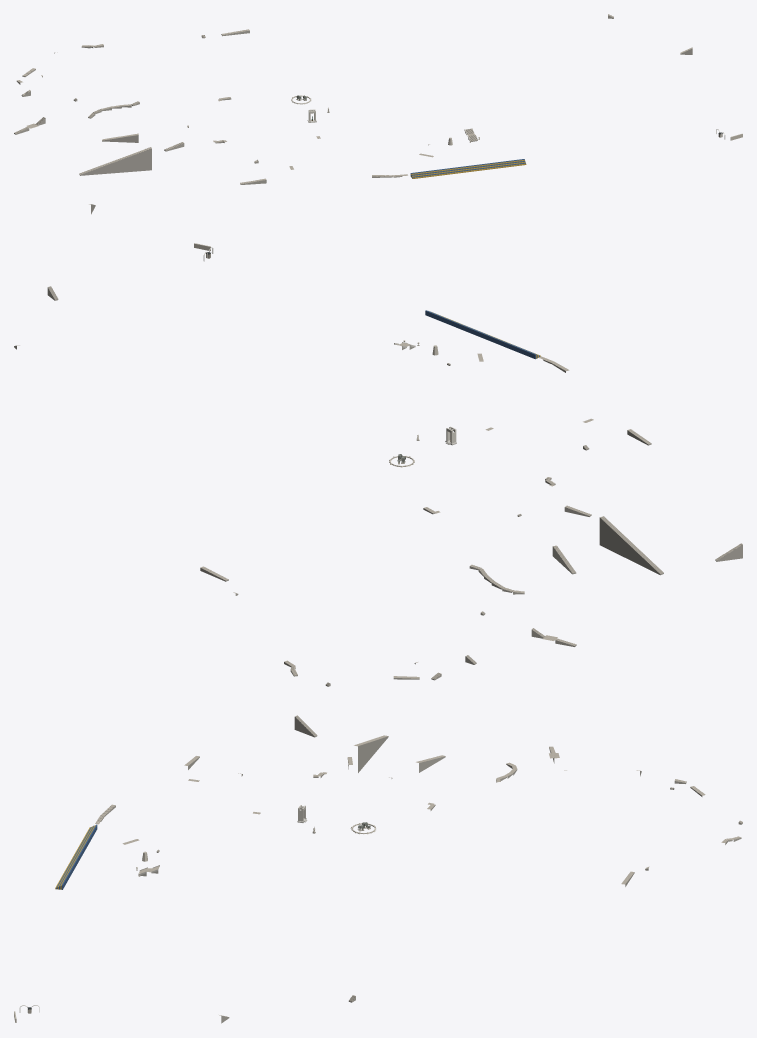
The picture shows the model from 3 angles, top to bottom: view 1: azimuth 30°, elevation 25°; view 2: azimuth 150°, elevation 25°; view 3: azimuth 270°, elevation 25°; orthographic projection. The views are drawn at different scales.
Visible parts, largest first — view 1: jeonggakwon-stair-upper__graniteRiser, dongguk-graniteLight, daeundong-stand__seatYellow, daeundong-stand__seatBlue; view 2: jeonggakwon-stair-upper__graniteRiser, dongguk-graniteLight; view 3: jeonggakwon-stair-upper__graniteRiser, dongguk-graniteLight.
Boxes of the visible parts, x1,y1,x2,y2 form: jeonggakwon-stair-upper__graniteRiser: [14, 15, 692, 214]; dongguk-graniteLight: [14, 14, 692, 204]; daeundong-stand__seatYellow: [411, 160, 526, 178]; daeundong-stand__seatBlue: [410, 159, 525, 178]; jeonggakwon-stair-upper__graniteRiser: [14, 286, 742, 686]; dongguk-graniteLight: [15, 286, 742, 685]; jeonggakwon-stair-upper__graniteRiser: [98, 716, 742, 1023]; dongguk-graniteLight: [95, 715, 742, 1016].
Size of the model in its own units: 508 by 47.13 by 448.
13 materials, 1 textured.
